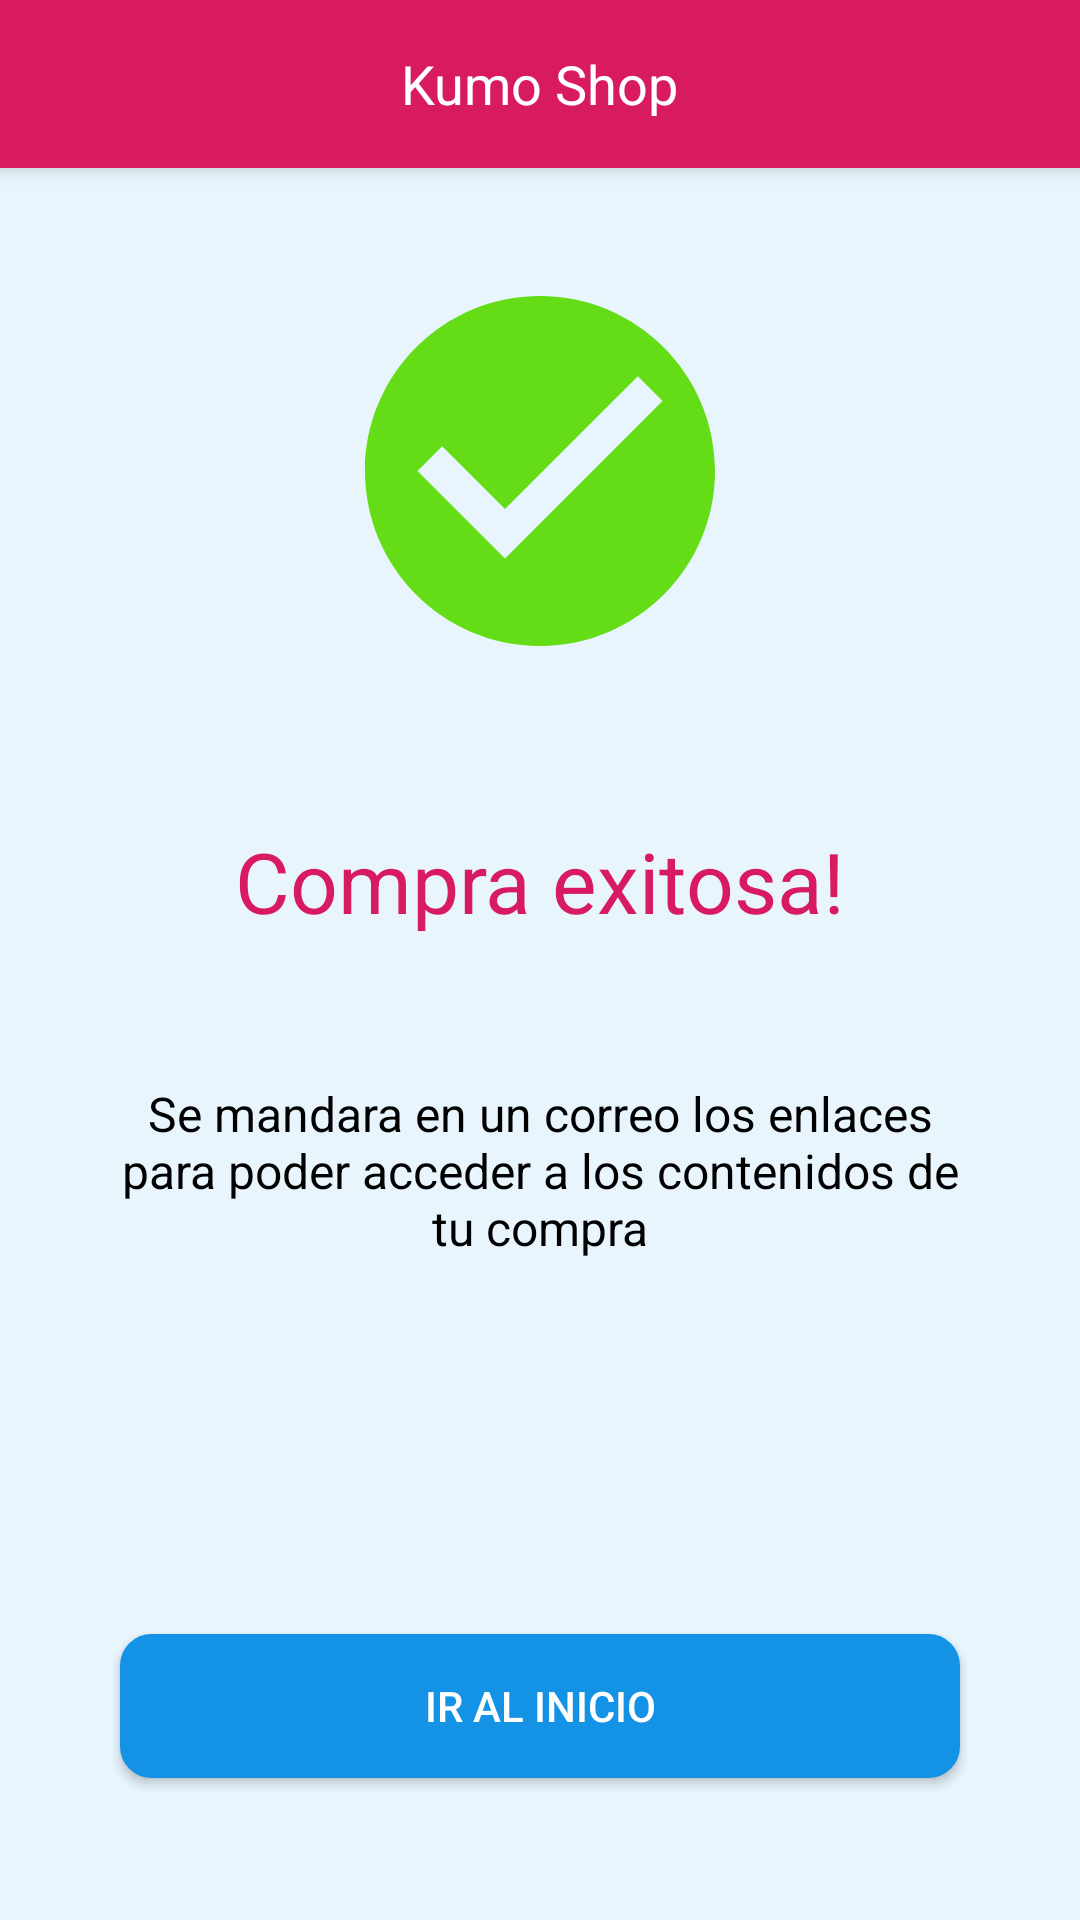

Named icons in this screenshot (1080px×1920px) and their centers, (x,y):
check circle: (540,471)
